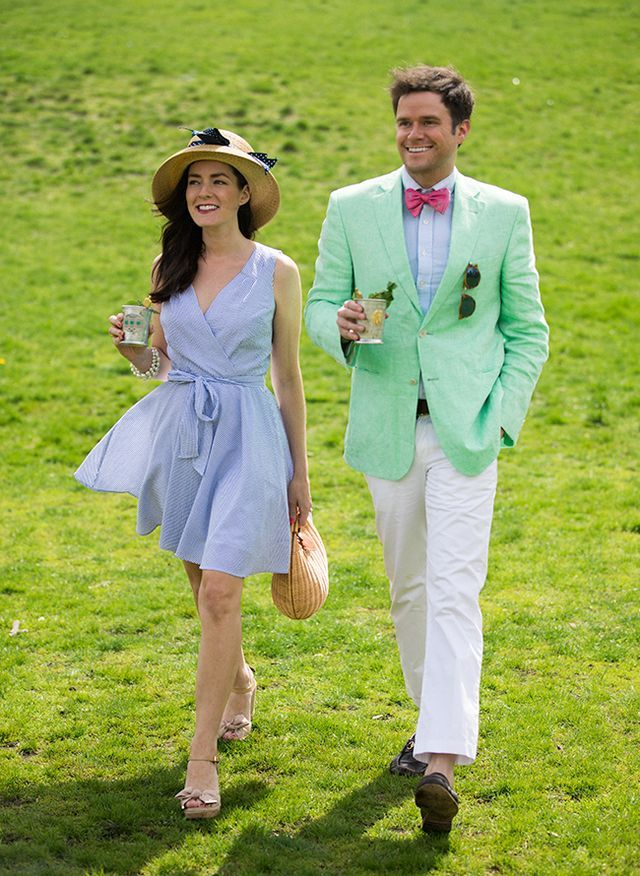Person: (309, 62, 551, 837), (75, 126, 311, 821)
